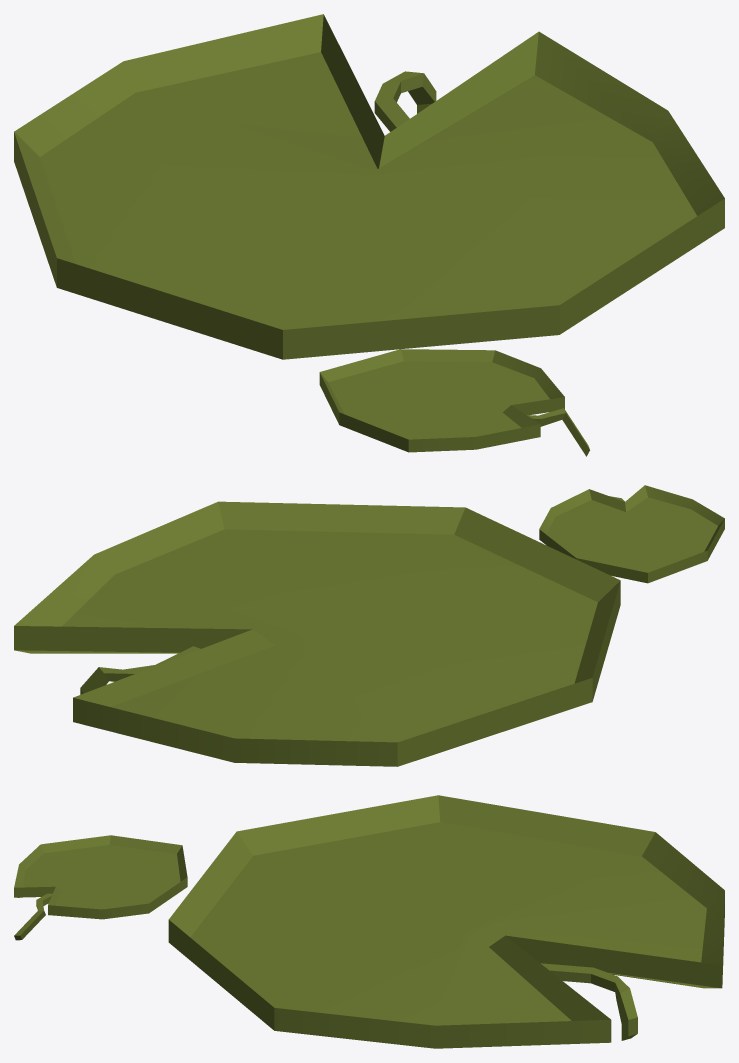
The model's file is art_3dobjects_water_crop_stage2.fbx.
The picture shows the model from 3 angles, top to bottom: view 1: azimuth 30°, elevation 25°; view 2: azimuth 150°, elevation 25°; view 3: azimuth 270°, elevation 25°; orthographic projection. The views are drawn at different scales.
Parts seen in each view (by area): view 1: water_stage2; view 2: water_stage2; view 3: water_stage2.
Boxes of the visible parts, box(x1,y1,x2,y2) form: water_stage2: box(14, 14, 724, 456); water_stage2: box(14, 485, 724, 766); water_stage2: box(14, 795, 724, 1048).
Size of the model in its own units: 23.67 by 2.87 by 30.86.
